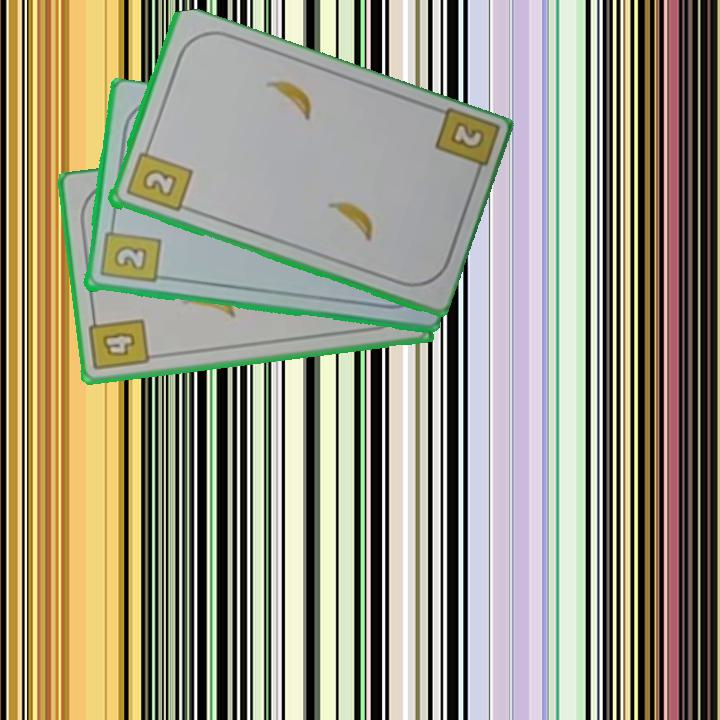2b: (122, 141, 195, 215), (96, 219, 163, 287), (446, 118, 487, 153)
4b: (86, 310, 152, 374)
